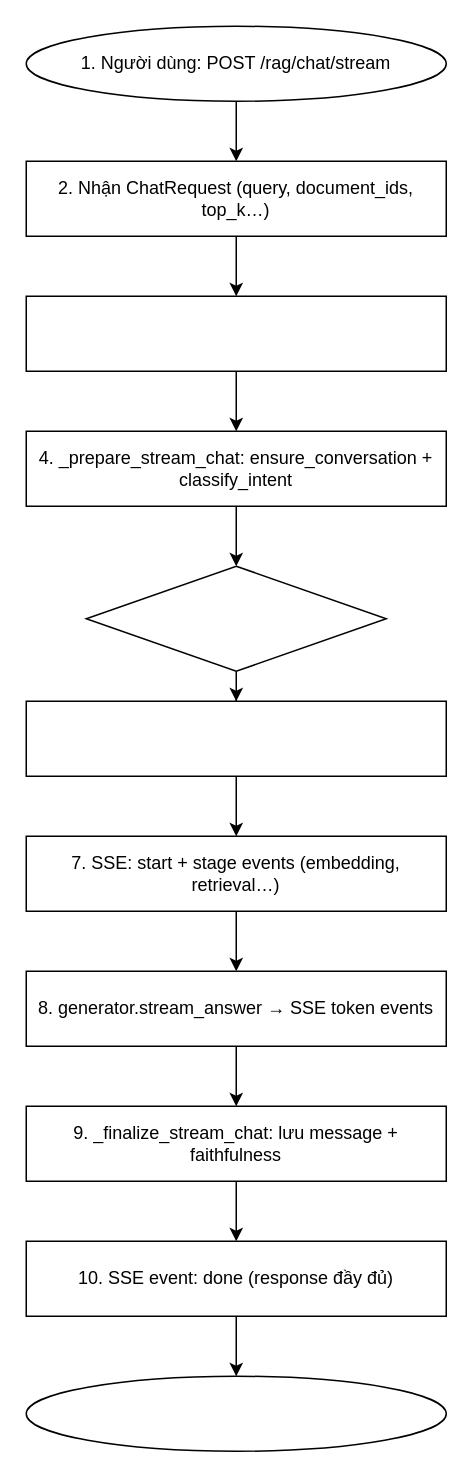
Image size: 473x1478. Some labels were removed from this diagram. The centre of each missing label's shape, as x and y in pixels:
"11. Kết thúc luồng SSE" belongs at (x=235, y=1413).
"3. Phản hồi streaming → service.stream_chat()" belongs at (x=235, y=333).
"5. Intent GENERAL?" belongs at (x=235, y=618).
"6. Retrieval: embed → hybrid retrieve → rerank → compress" belongs at (x=235, y=738).
